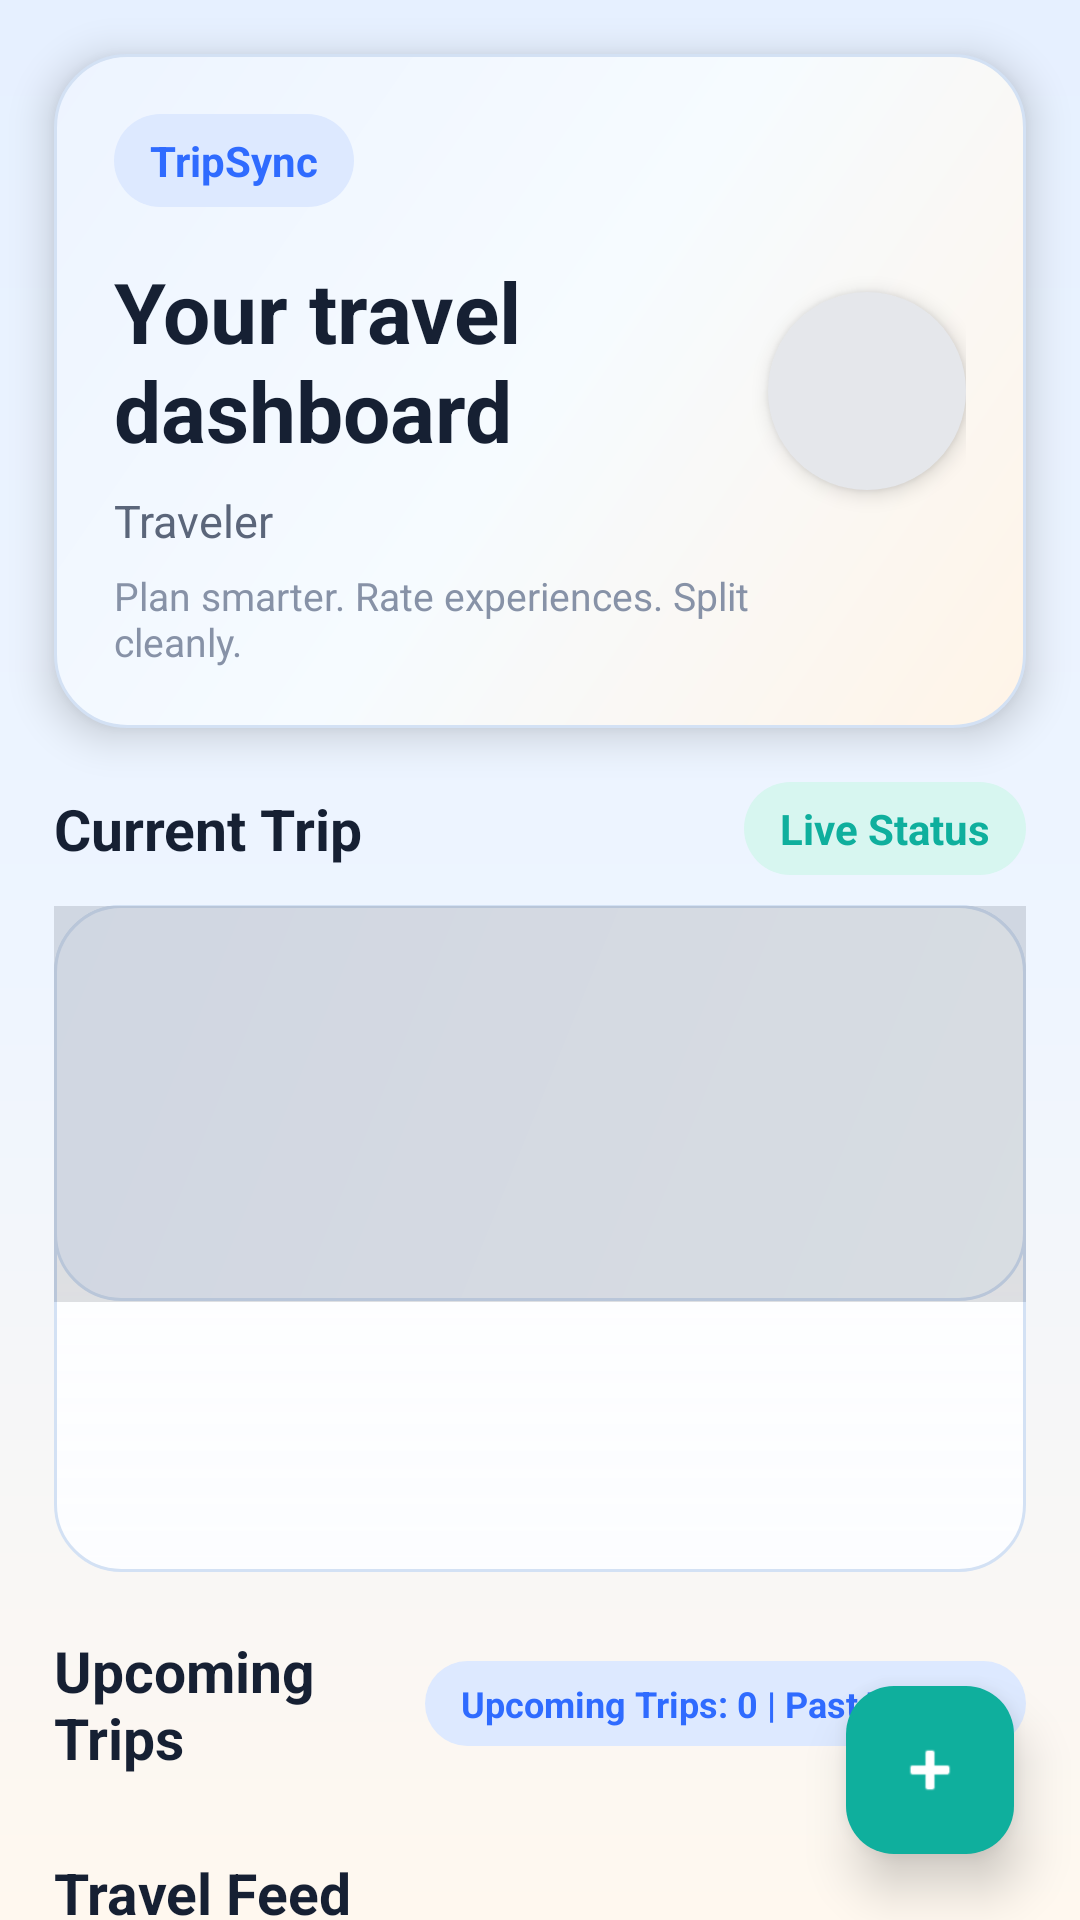

Named icons in this screenshot (1080 × 1920) and their centers, (x,y):
add: (930,1770)
